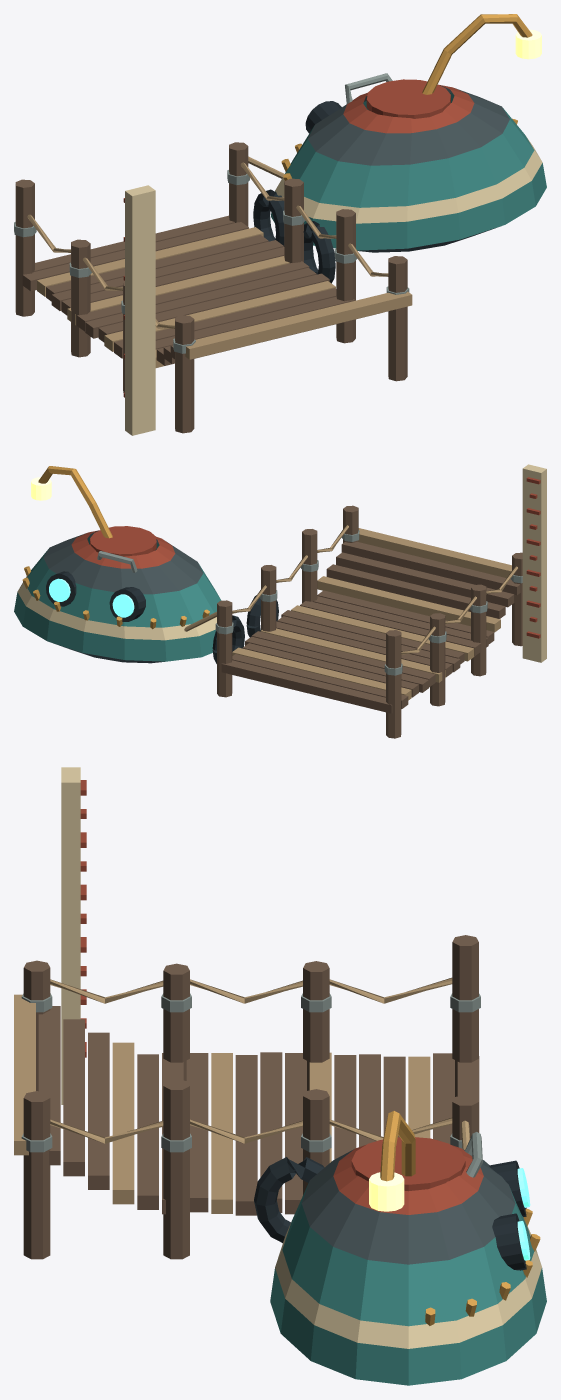
Rendered from tidal_landing.glb.
The picture shows the model from 3 angles, top to bottom: view 1: azimuth 30°, elevation 25°; view 2: azimuth 150°, elevation 25°; view 3: azimuth 270°, elevation 25°; orthographic projection. The views are drawn at different scales.
Parts seen in each view (by area): view 1: Landing boards, SoundingFloat, tidal_landing; view 2: Landing boards, SoundingFloat, tidal_landing; view 3: Landing boards, SoundingFloat, tidal_landing.
Boxes of the visible parts, box(x1,y1,x2,y2) form: Landing boards: box(14, 142, 412, 433); SoundingFloat: box(270, 14, 546, 252); tidal_landing: box(123, 156, 335, 435); Landing boards: box(215, 505, 522, 738); SoundingFloat: box(14, 466, 221, 663); tidal_landing: box(184, 464, 546, 663); Landing boards: box(14, 935, 480, 1259); SoundingFloat: box(270, 1111, 546, 1385); tidal_landing: box(61, 767, 470, 1242).
Size of the model in its own units: 6.83 by 2.93 by 4.39.
